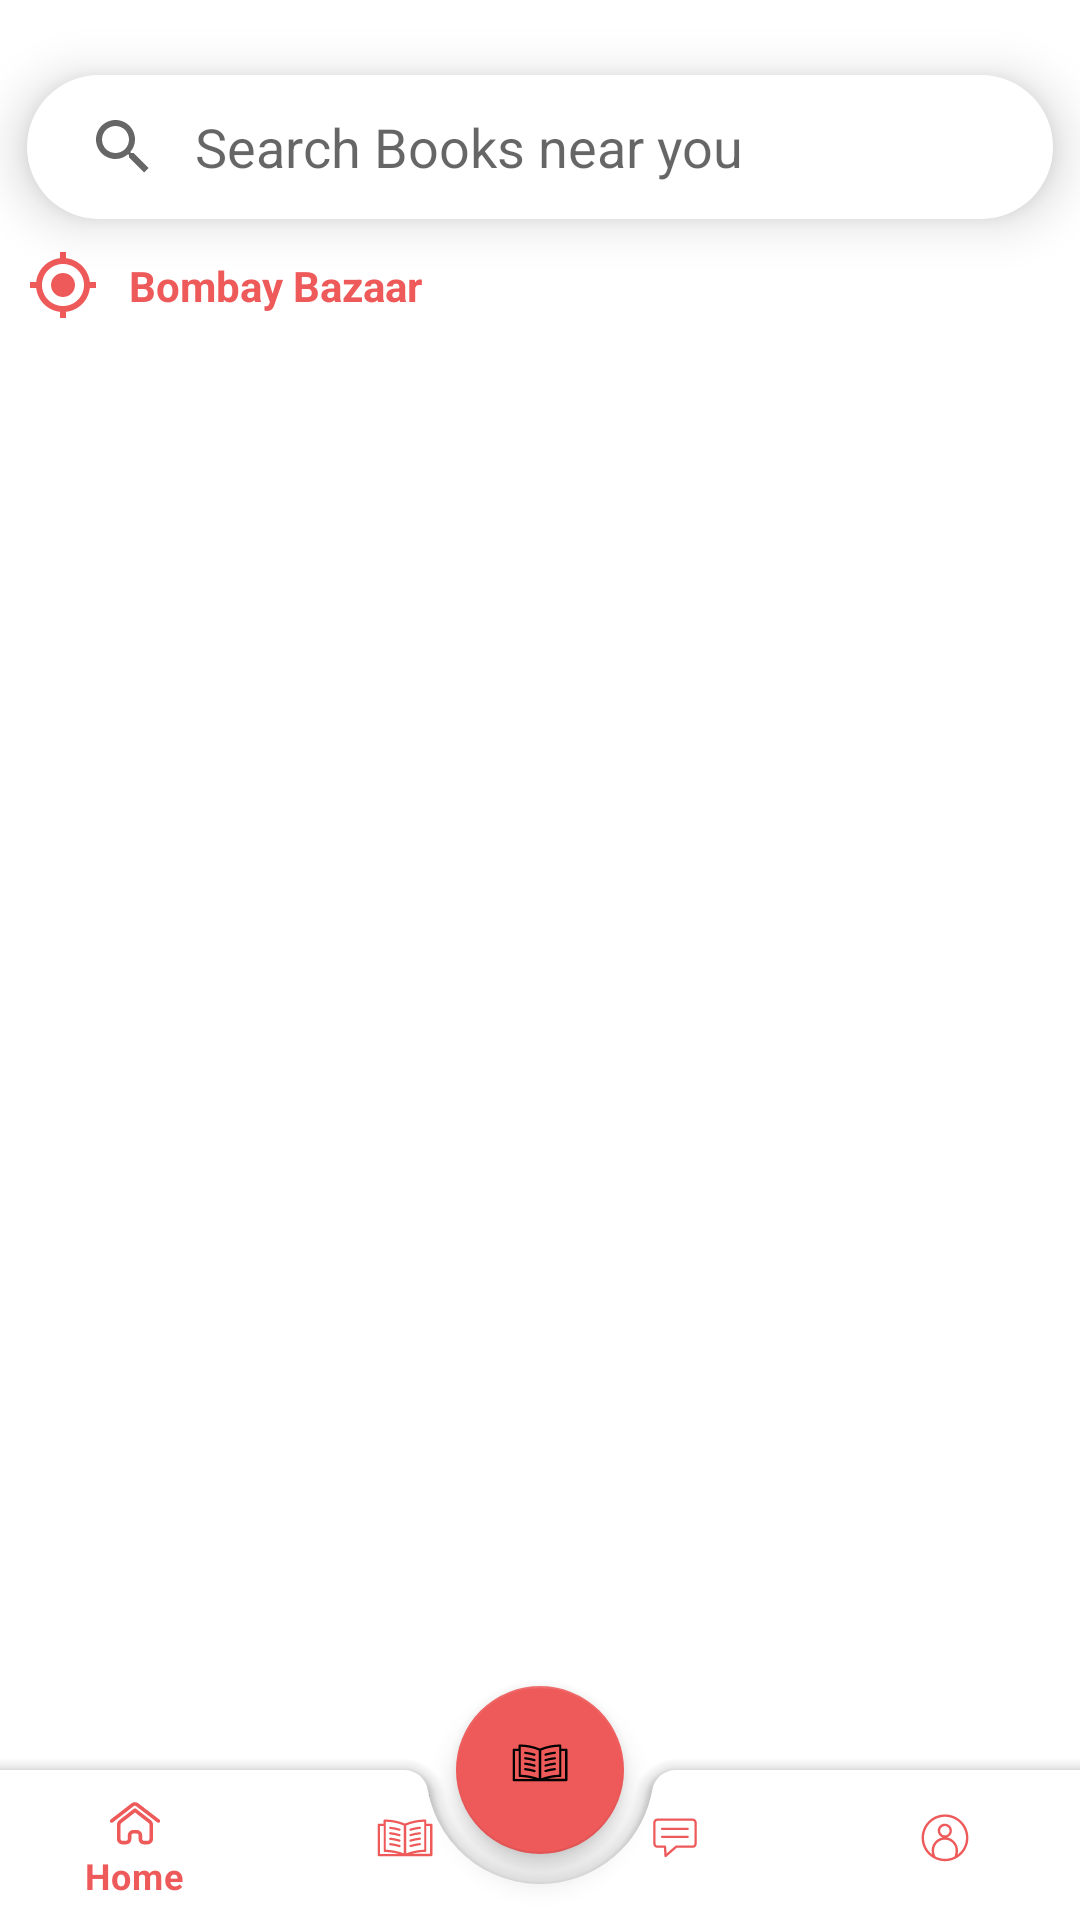

Icons on this 1080 × 1920 Android screen, each with its box as (x1, y1, x2, y2):
add new book: (456, 1686, 624, 1854)
user location picker: (30, 252, 96, 318)
